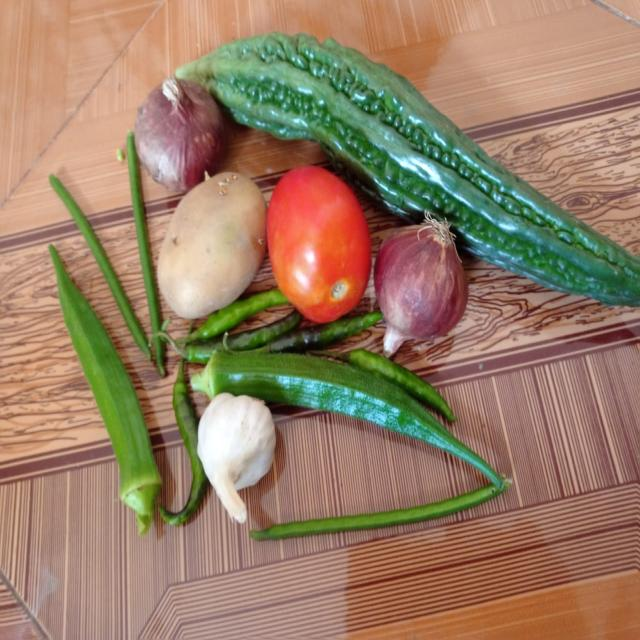Organik: (42, 234, 162, 542), (204, 345, 536, 439), (268, 163, 374, 324), (260, 480, 514, 542), (158, 175, 272, 312), (374, 221, 471, 351), (124, 71, 230, 187), (197, 388, 280, 522), (350, 341, 464, 424)
